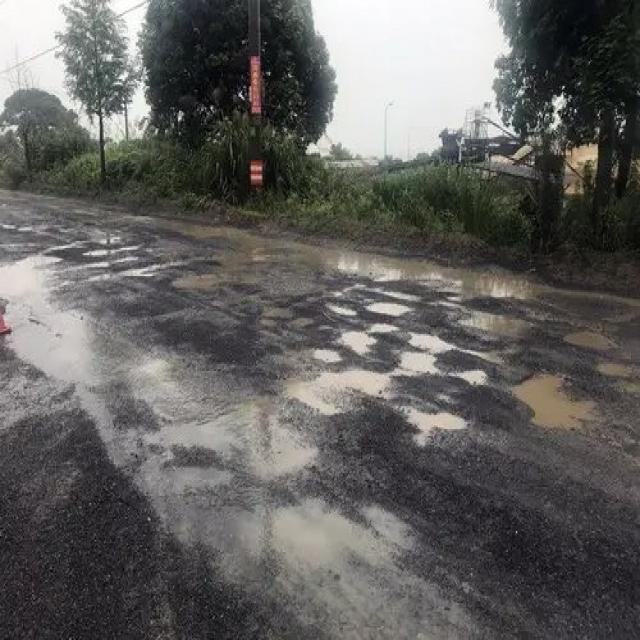Pothole: (507, 364, 594, 440), (324, 364, 392, 403), (402, 404, 471, 442), (164, 271, 229, 292), (566, 325, 612, 352), (335, 324, 374, 355), (397, 346, 438, 374), (406, 332, 454, 355), (366, 292, 410, 316), (79, 244, 137, 255), (456, 368, 492, 385), (120, 268, 160, 282), (366, 320, 394, 334), (99, 255, 138, 264)
